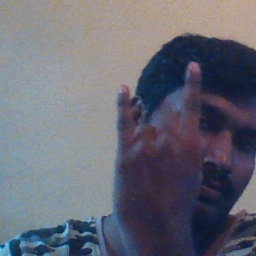V: (109, 50, 213, 240)
